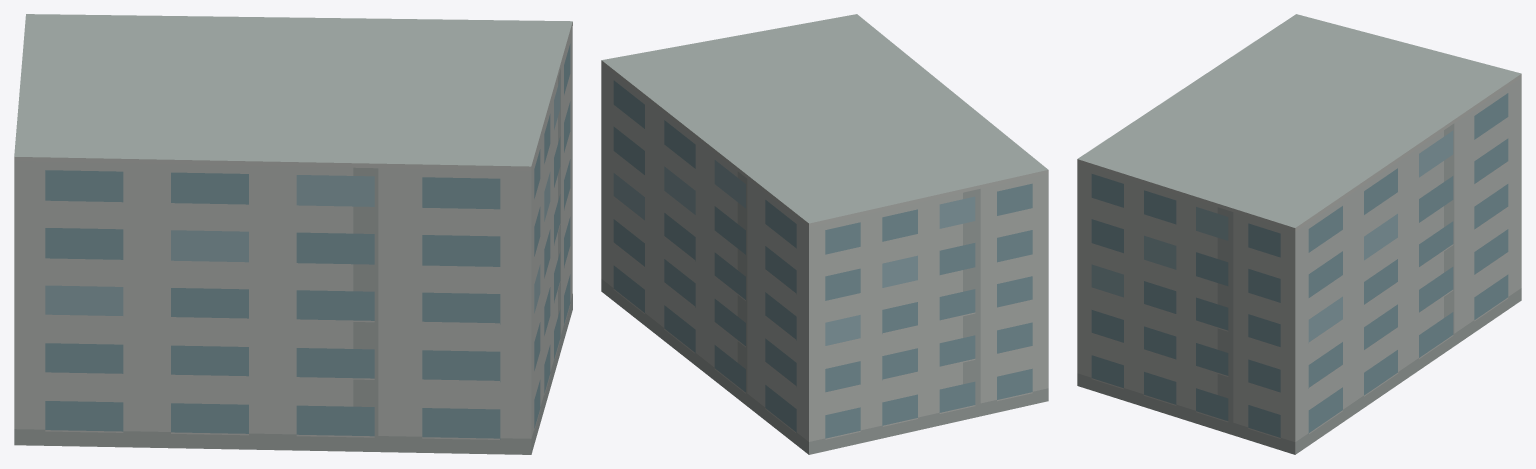
The model's file is residential-971a4859-4b4f-418c-99fd-9e201d545690.glb.
The picture shows the model from 3 angles, left to right: view 1: azimuth 30°, elevation 25°; view 2: azimuth 150°, elevation 25°; view 3: azimuth 270°, elevation 25°; orthographic projection. The views are drawn at different scales.
Visible parts, largest first — view 1: residential-971a4859-4b4f-418c-99fd-9e201d545690.tmp; view 2: residential-971a4859-4b4f-418c-99fd-9e201d545690.tmp; view 3: residential-971a4859-4b4f-418c-99fd-9e201d545690.tmp.
Part boxes in pixels (x1,y1,x2,y2): residential-971a4859-4b4f-418c-99fd-9e201d545690.tmp: (14, 14, 572, 454); residential-971a4859-4b4f-418c-99fd-9e201d545690.tmp: (601, 14, 1048, 454); residential-971a4859-4b4f-418c-99fd-9e201d545690.tmp: (1077, 14, 1521, 454).
Bounding box in the file's own units: 30.88 × 15.25 × 27.09.
